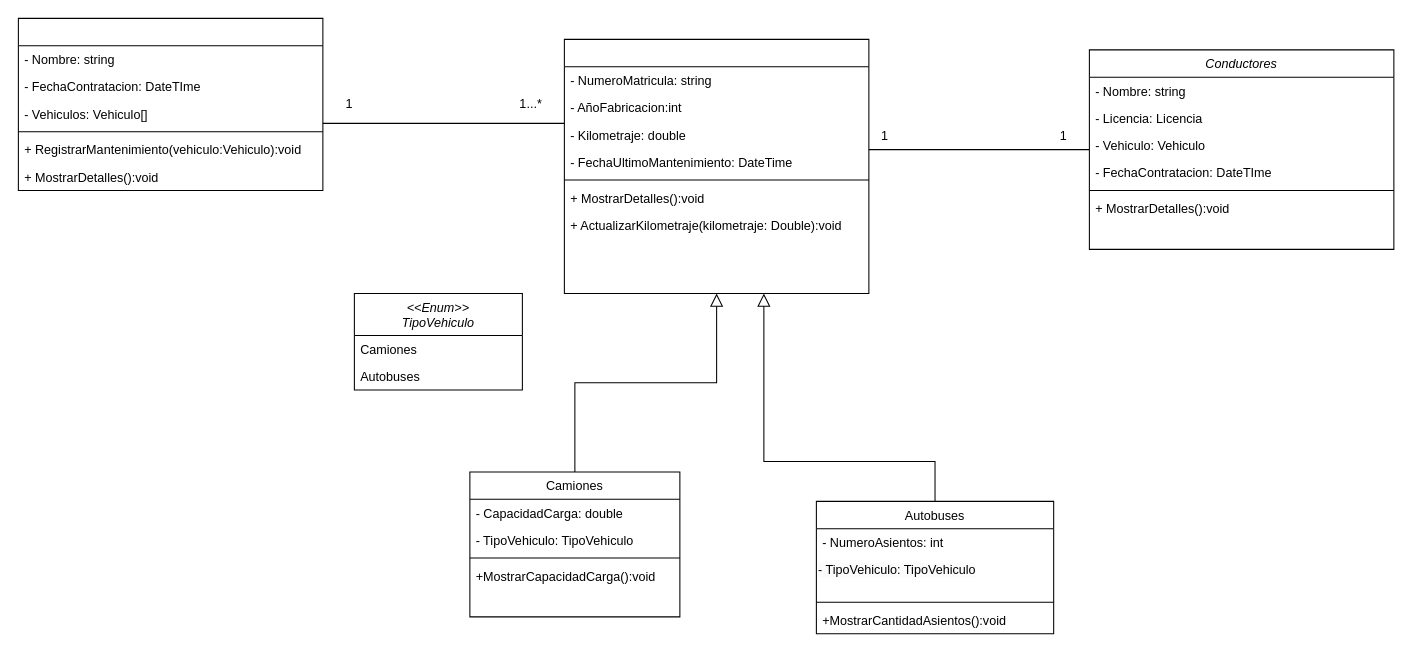
The diagram is 1412 pixels wide and 655 high, and some of its shapes have lost their labels. The box of each missing label's shape, as (x1, y1, x2, y2) in pixels:
SupervisorDeFlota: (17, 17, 323, 191)
Vehiculo: (563, 38, 869, 293)
